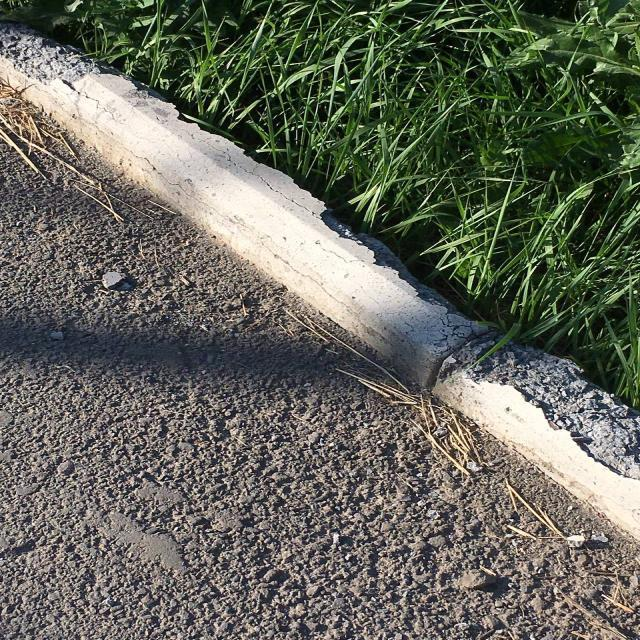bump: (233, 176, 477, 408), (442, 338, 639, 538), (57, 70, 267, 240)
